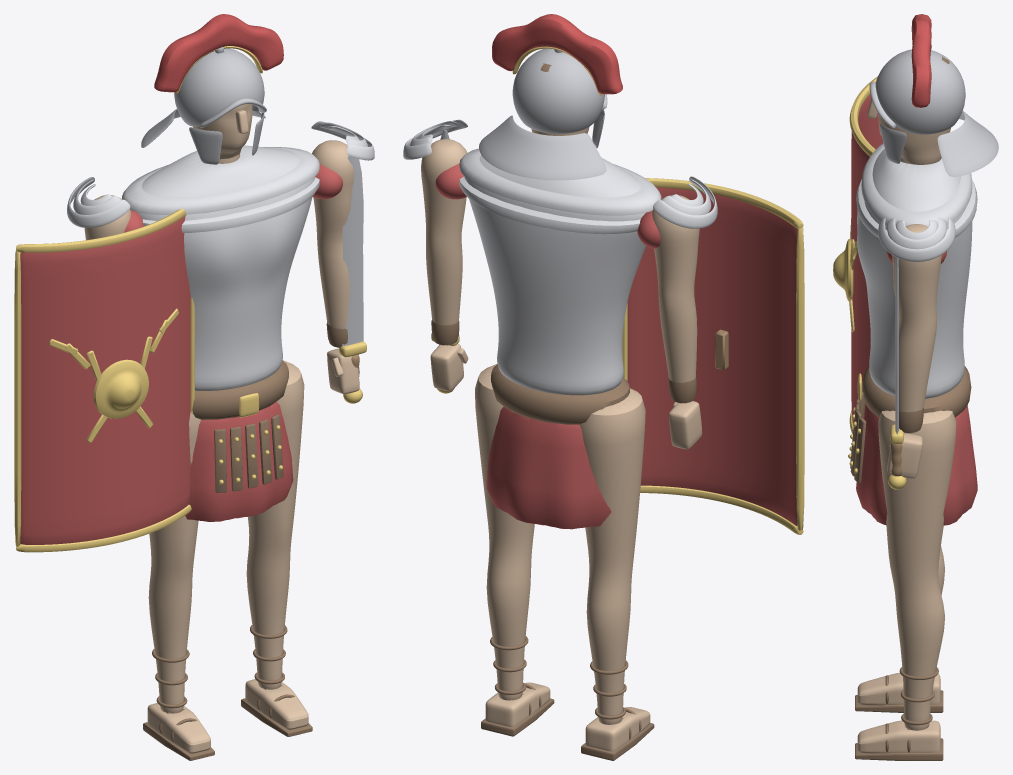
Rendered from legionary.glb.
3 renders of one model, left to right at view 1: azimuth 30°, elevation 25°; view 2: azimuth 150°, elevation 25°; view 3: azimuth 270°, elevation 25°, orthographic. The views are drawn at different scales.
Visible parts, largest first — view 1: Shield, Torso, LegR, LegL, ArmR, Helmet, Crest, Sword, ArmL, Head; view 2: Torso, Shield, LegL, Helmet, LegR, ArmL, ArmR, Crest; view 3: Torso, LegR, ArmR, Helmet, Shield, LegL, Crest, Sword, Head.
Part boxes in pixels (x1=…): Shield: x1=14, y1=208, x2=194, y2=552; Torso: x1=122, y1=145, x2=342, y2=521; LegR: x1=241, y1=360, x2=312, y2=736; LegL: x1=143, y1=411, x2=214, y2=760; ArmR: x1=311, y1=121, x2=374, y2=394; Helmet: x1=141, y1=47, x2=266, y2=164; Crest: x1=154, y1=14, x2=283, y2=93; Sword: x1=339, y1=156, x2=366, y2=403; ArmL: x1=67, y1=177, x2=130, y2=240; Head: x1=193, y1=104, x2=252, y2=159; Torso: x1=435, y1=148, x2=661, y2=529; Shield: x1=622, y1=178, x2=804, y2=534; LegL: x1=580, y1=388, x2=654, y2=760; Helmet: x1=479, y1=48, x2=607, y2=180; LegR: x1=475, y1=364, x2=554, y2=736; ArmL: x1=652, y1=176, x2=717, y2=449; ArmR: x1=403, y1=119, x2=468, y2=391; Crest: x1=492, y1=14, x2=622, y2=95; Torso: x1=848, y1=143, x2=977, y2=525; LegR: x1=855, y1=410, x2=956, y2=760; ArmR: x1=878, y1=217, x2=955, y2=478; Helmet: x1=869, y1=49, x2=998, y2=177; Shield: x1=833, y1=76, x2=883, y2=433; LegL: x1=855, y1=546, x2=944, y2=712; Crest: x1=911, y1=14, x2=931, y2=107; Sword: x1=887, y1=257, x2=906, y2=489; Head: x1=867, y1=56, x2=950, y2=164.
Bounding box in the file's own units: 1.09 × 1.98 × 0.4193.
